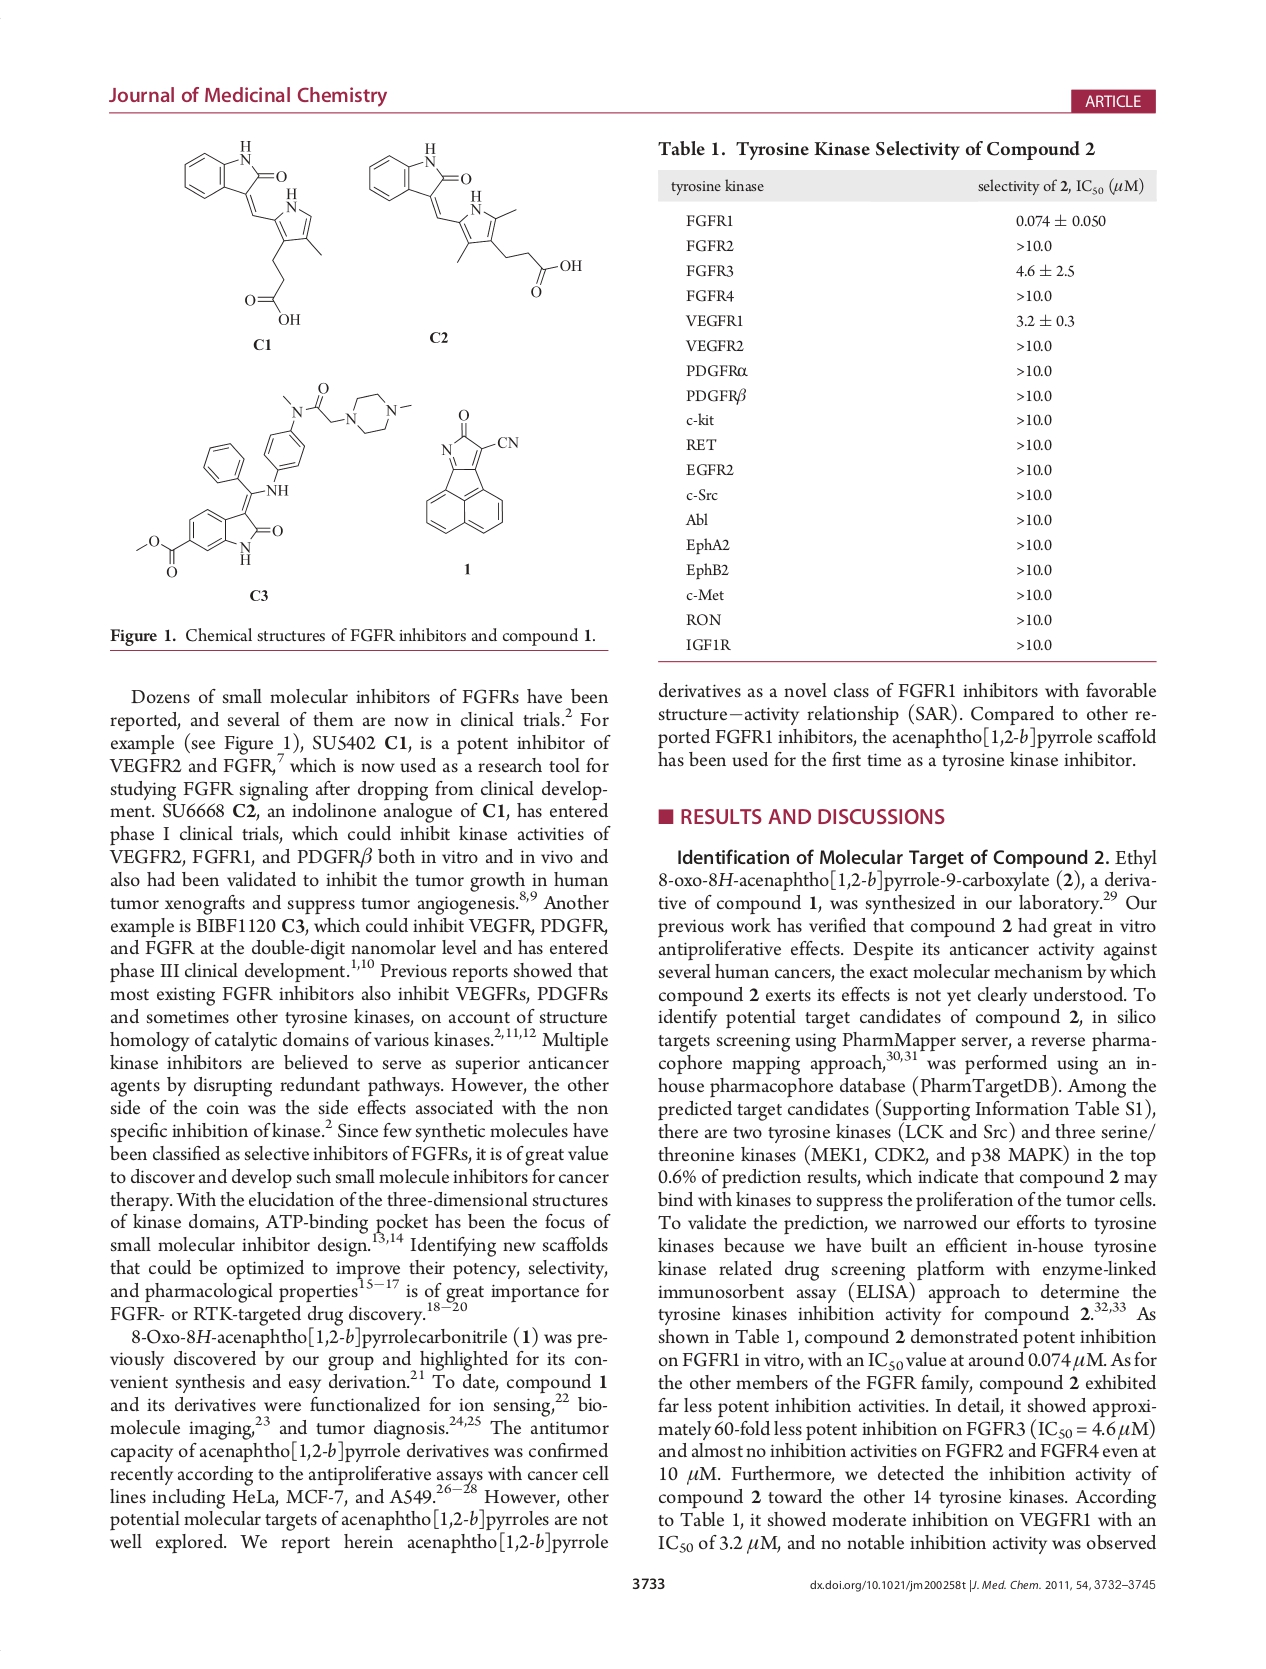exist_molecular: (136, 380, 411, 578), (363, 136, 585, 301), (182, 136, 324, 328), (422, 406, 523, 537)
